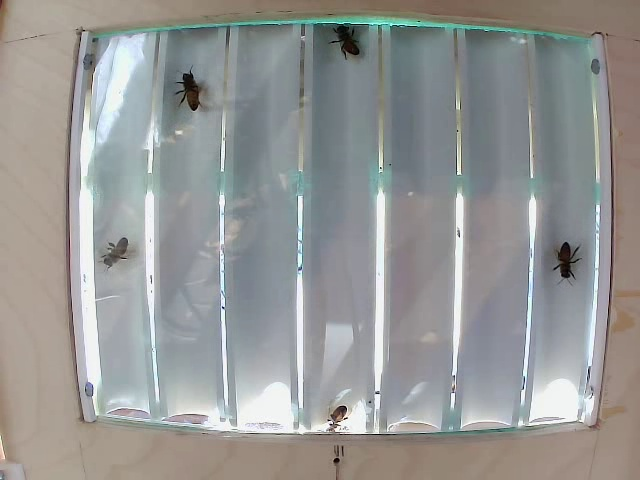bee: (178, 63, 212, 118), (101, 227, 138, 273), (558, 234, 581, 292)
